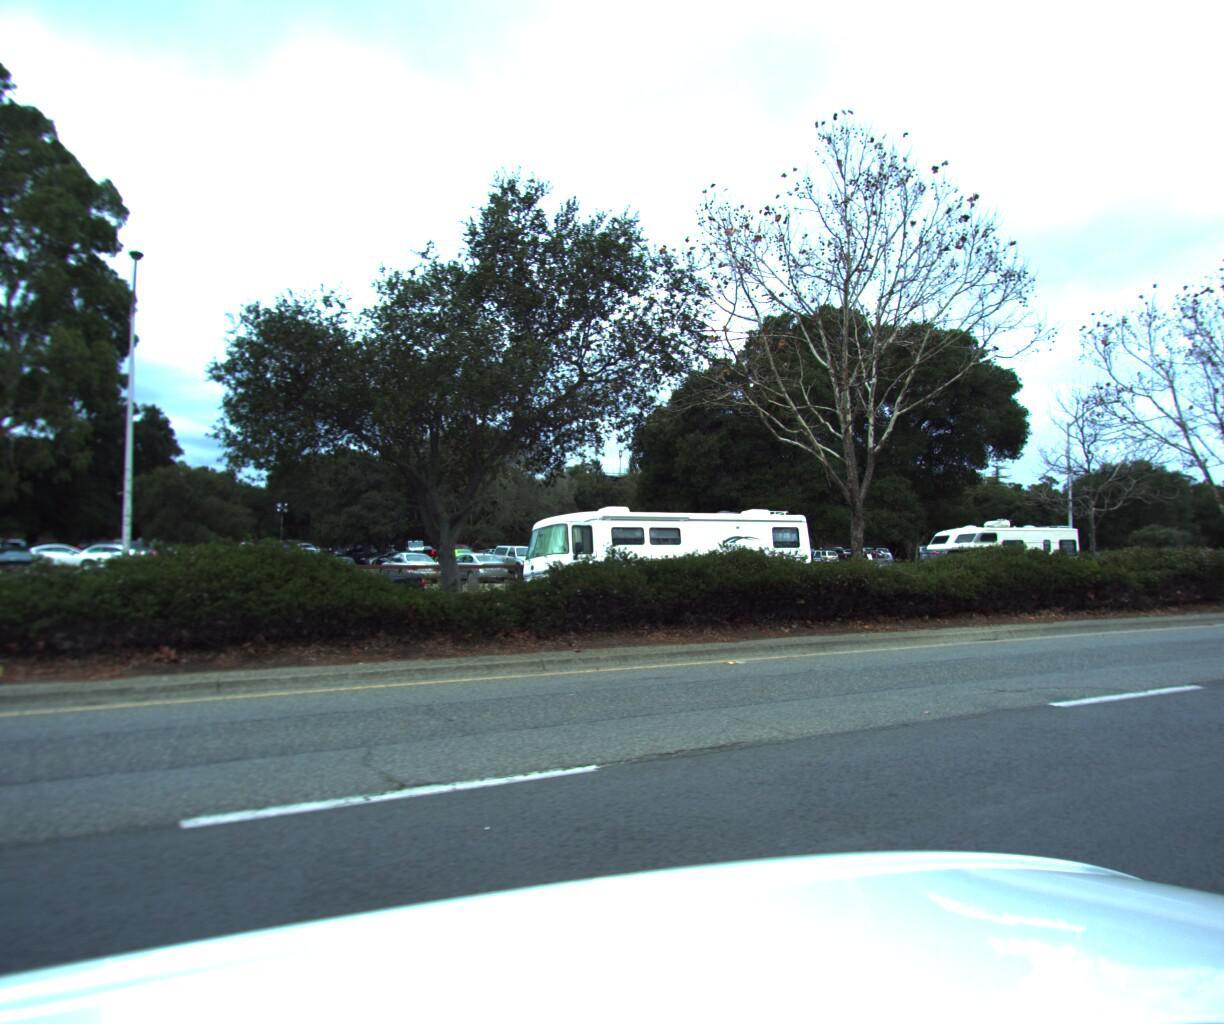car: (250, 553, 432, 615), (377, 549, 443, 588)
other_vehicle: (506, 496, 820, 610), (911, 509, 1082, 589)
